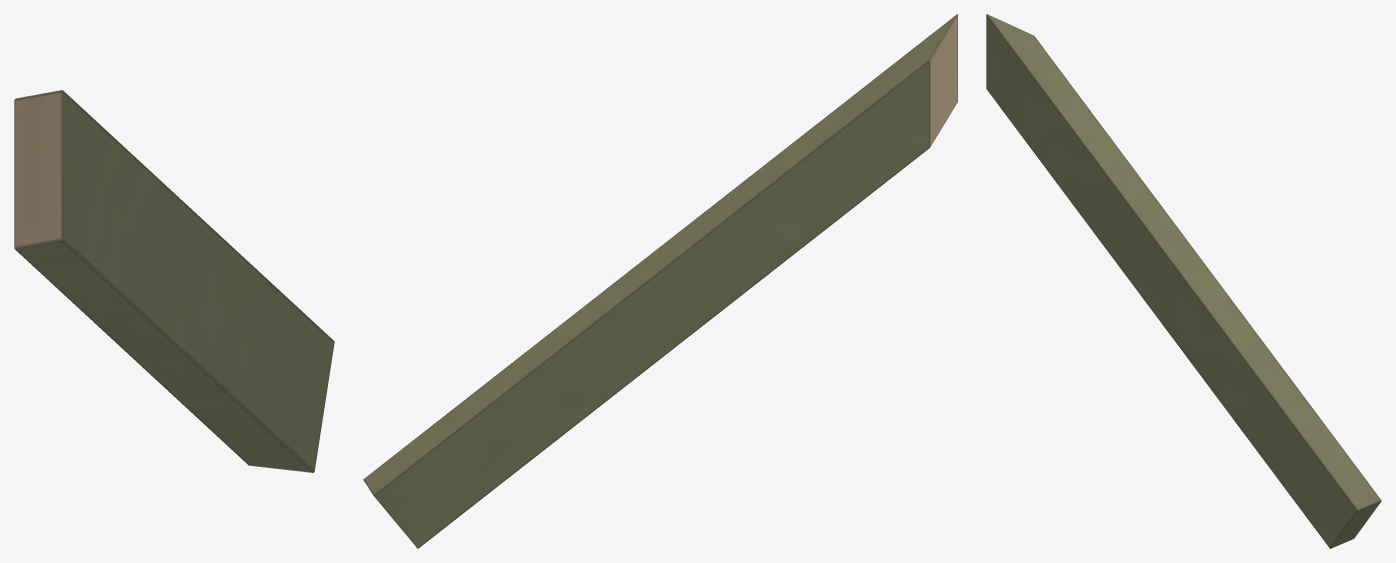
The picture shows the model from 3 angles, left to right: view 1: azimuth 30°, elevation 25°; view 2: azimuth 150°, elevation 25°; view 3: azimuth 270°, elevation 25°; orthographic projection. The views are drawn at different scales.
Parts seen in each view (by area): view 1: part-b; view 2: part-b; view 3: part-b.
Part boxes in pixels (x1,y1,x2,y2): part-b: (14, 90, 334, 472); part-b: (363, 14, 957, 548); part-b: (986, 14, 1381, 548).
Size of the model in its own units: 0.4984 by 0.5769 by 0.5302.
